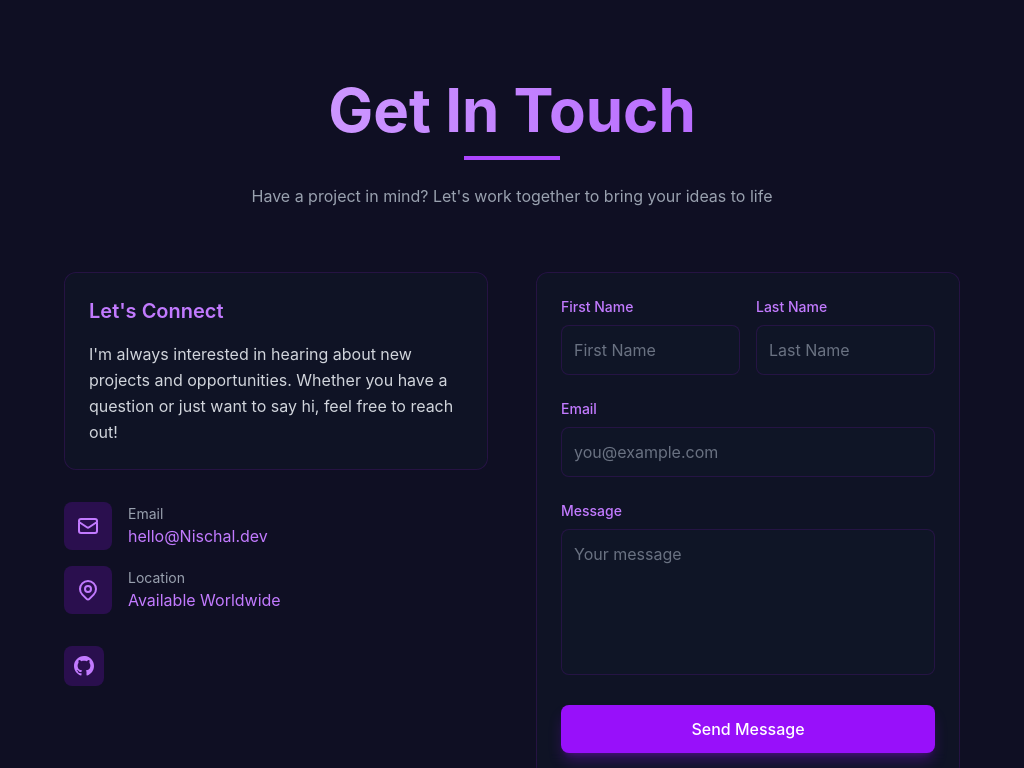
Contact Component › displays error message on submission failure
Type "John" into the field with placeholder "First Name" at [650, 350], box [561,325,740,375]
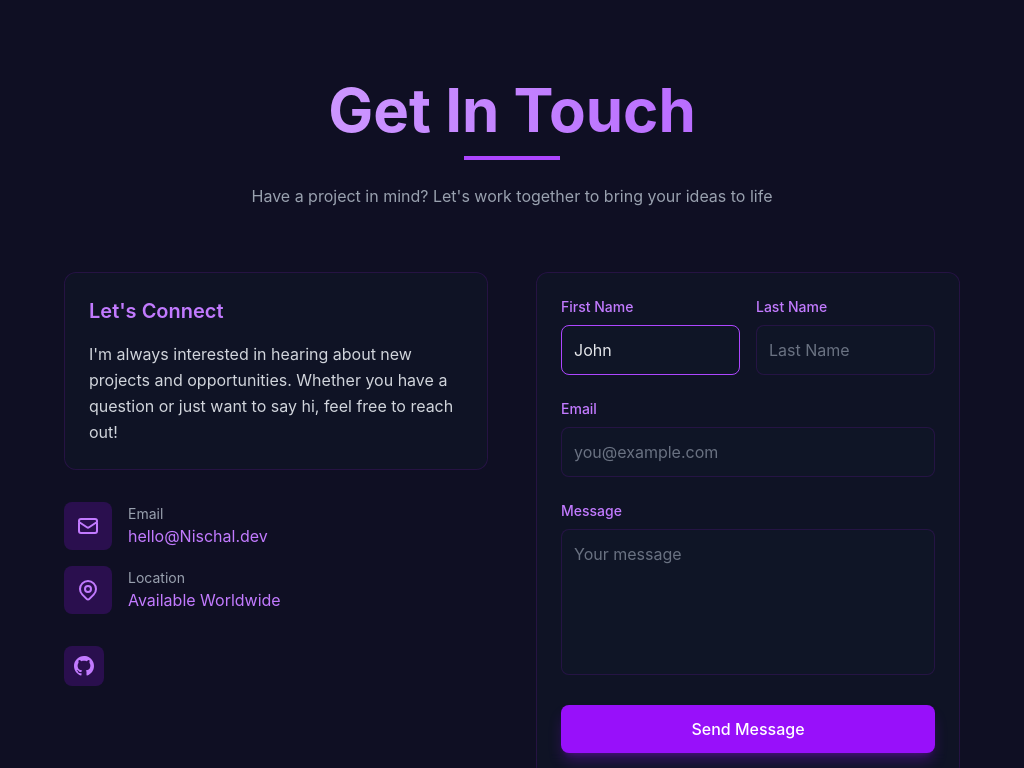
Type "Doe" into the field with placeholder "Last Name" at [846, 350], box [756,325,935,375]
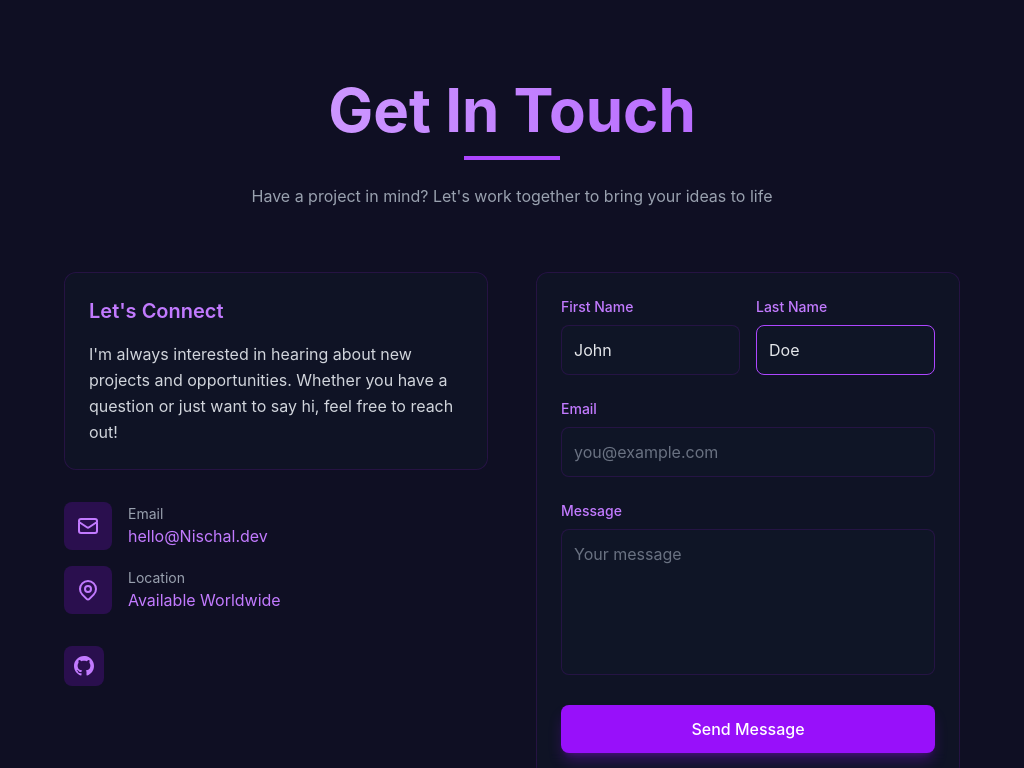
Type "john@example.com" into the field with placeholder "you@example.com" at [748, 452], box [561,427,935,477]
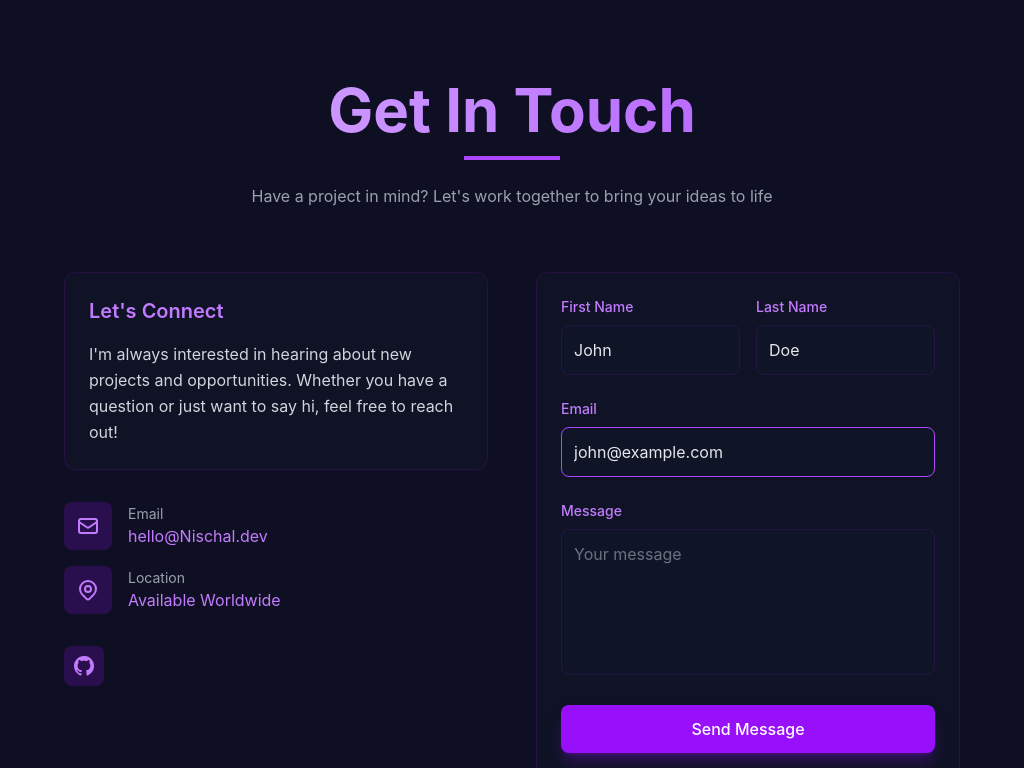
Type "Test message" into the text box with placeholder "Your message" at [748, 602], box [561,529,935,675]
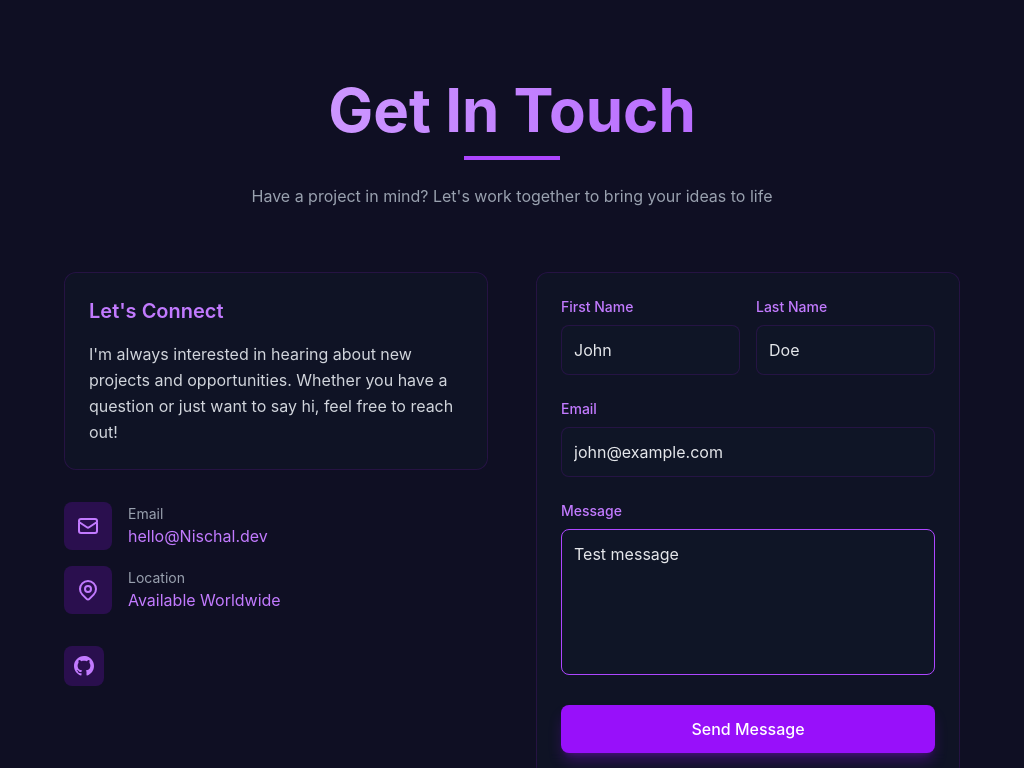
Click the button "Send Message" at [748, 729], box [561,705,935,753]
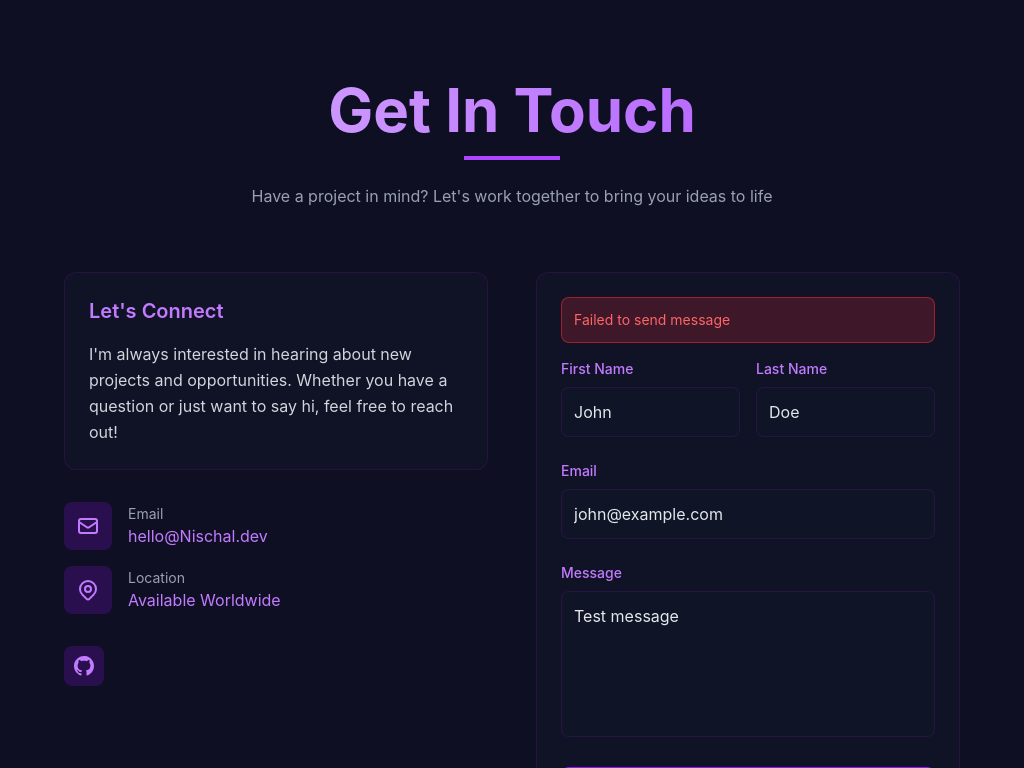
Now the text "Failed to send message" is shown, box [561,297,935,343]
